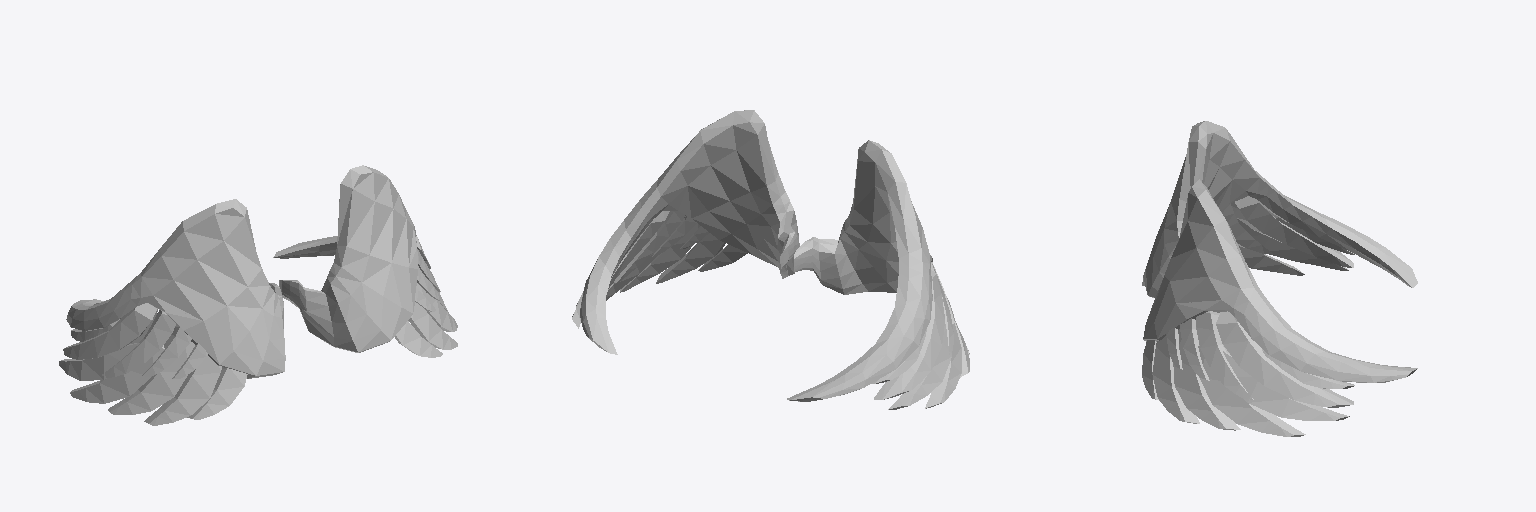
The model's file is AngelSmall.obj.
The picture shows the model from 3 angles: view 1: azimuth 30°, elevation 25°; view 2: azimuth 150°, elevation 25°; view 3: azimuth 270°, elevation 25°; orthographic projection.
Parts seen in each view (by area): view 1: Handle1; view 2: Handle1; view 3: Handle1.
Boxes of the visible parts, box(x1,y1,x2,y2) form: Handle1: box(59, 165, 457, 425); Handle1: box(572, 110, 969, 409); Handle1: box(1142, 121, 1417, 436).
Bounding box in the file's own units: 8.8 × 4.82 × 5.85.